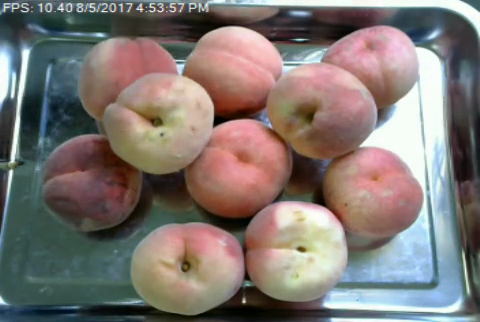Peach: (103, 74, 217, 175), (265, 64, 381, 162), (243, 199, 351, 304), (183, 118, 291, 218), (129, 223, 245, 315), (40, 132, 142, 232), (321, 146, 424, 240), (311, 23, 424, 108), (183, 25, 283, 115), (81, 34, 172, 124)
